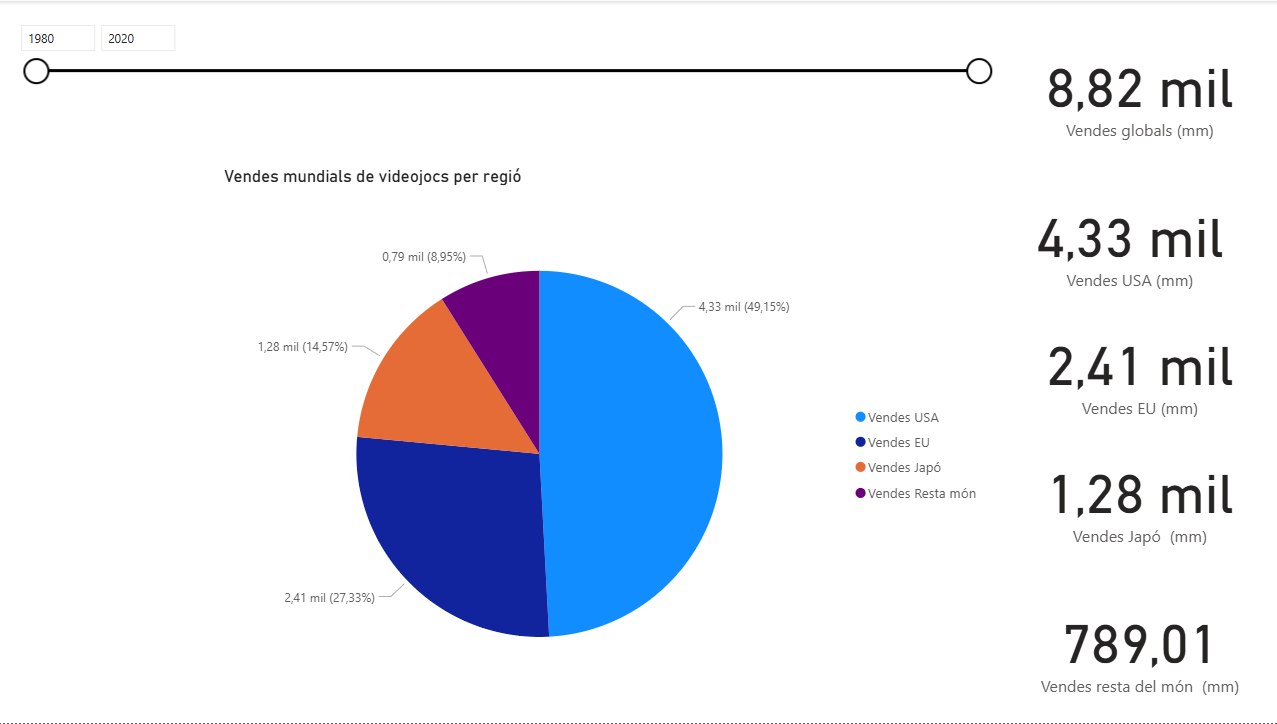

The page's visual inventory and layout, read from the dashboard file:
{"tool":"powerbi","page":{"name":"Pie chart","canvas":[1280,720],"ordinal":0},"visuals":[{"type":"pieChart","title":"Vendes mundials de videojocs per regió","fields":{"Y":["Sum(videogame.USA_Sales)","Sum(videogame.EU_Sales)","Sum(videogame.JP_Sales)","Sum(videogame.Other_Sales)"]},"box":[222.7,164.4,770.3,555.4],"z":0},{"type":"card","fields":{"Values":["Sum(videogame.USA_Sales)"]},"box":[993.1,164.4,277.2,149.8],"z":1000},{"type":"card","fields":{"Values":["Sum(videogame.EU_Sales)"]},"box":[1002.8,292.8,277.2,149.8],"z":2000},{"type":"card","fields":{"Values":["Sum(videogame.JP_Sales)"]},"box":[1002.8,420.2,277.2,149.8],"z":3000},{"type":"card","fields":{"Values":["Sum(videogame.Other_Sales)"]},"box":[1002.8,570,277.2,149.8],"z":4000},{"type":"card","fields":{"Values":["Sum(videogame.Global_Sales)"]},"box":[1002.8,14.6,277.2,149.8],"z":5000},{"type":"slicer","fields":{"Values":["videogame.Year"]},"box":[12,13.7,990.2,150.5],"z":6000}]}

Visuals, with their boxes in screenshot pixels (x1, y1, x2, y2), scaled from the page's 1280x720 canvas onto the 1277x724 screenshot:
"Vendes mundials de videojocs per regió" pieChart: (222, 165, 991, 723)
card - Sum(videogame.USA_Sales): (991, 165, 1267, 316)
card - Sum(videogame.EU_Sales): (1000, 294, 1276, 445)
card - Sum(videogame.JP_Sales): (1000, 423, 1276, 573)
card - Sum(videogame.Other_Sales): (1000, 573, 1276, 723)
card - Sum(videogame.Global_Sales): (1000, 15, 1276, 165)
slicer - videogame.Year: (12, 14, 1000, 165)
